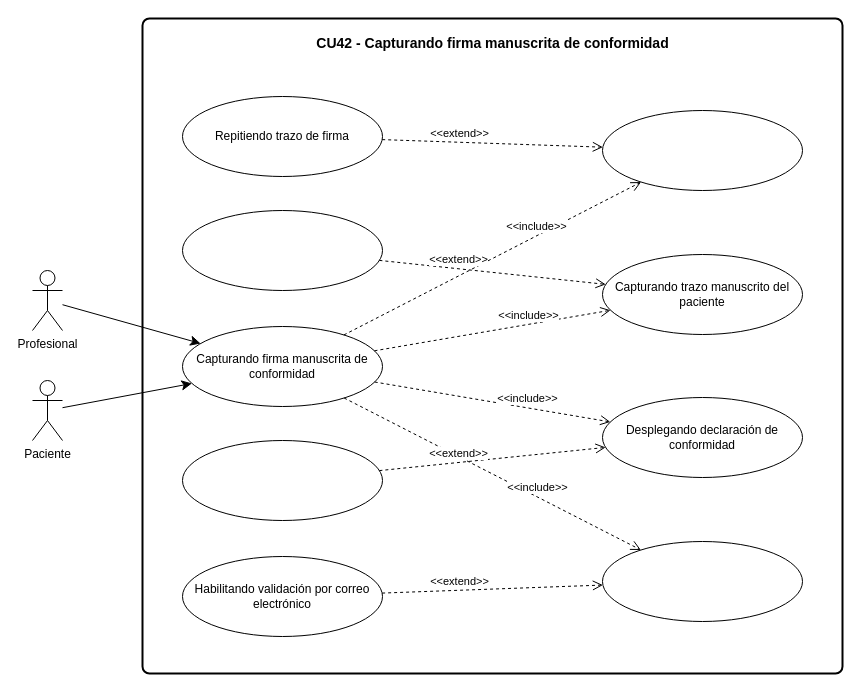
The diagram is 860 pixels wide and 691 high, and some of its shapes have lost their labels. Here are the shapes that lost their labels. From the top down, the centre of each, then its label:
the point at 702,150: Almacenando evidencia de firma en sesión
the point at 282,250: Registrando justificación de rechazo
the point at 282,480: Recargando módulo de cierre
the point at 702,581: Habilitando interfaz de captura de firma
